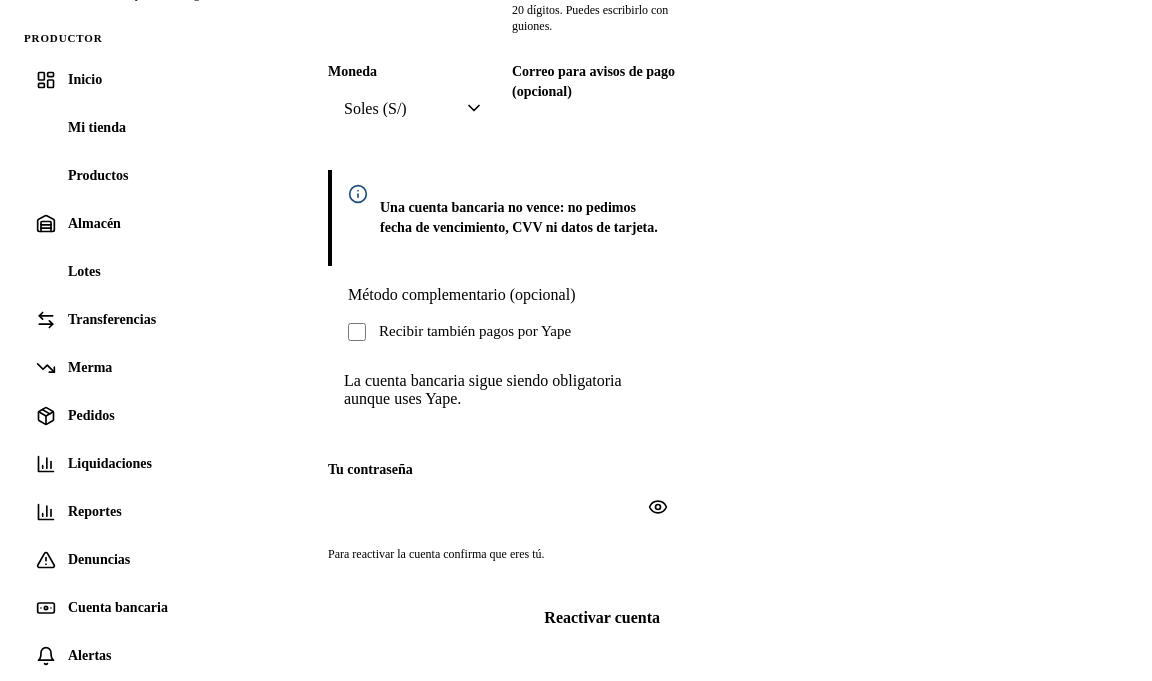
Test case: PW-20 Desactivar y reactivar la cuenta (CCPIP-275, CCPIP-276) › reactivar vuelve a enviar los datos con la contraseña
(page scrolled)
Expected: the button "Desactivar temporalmente" is not shown
Click the button "Reactivar cuenta". click: coordinates (602, 618)
box: [520,594,684,642]
(page scrolled)
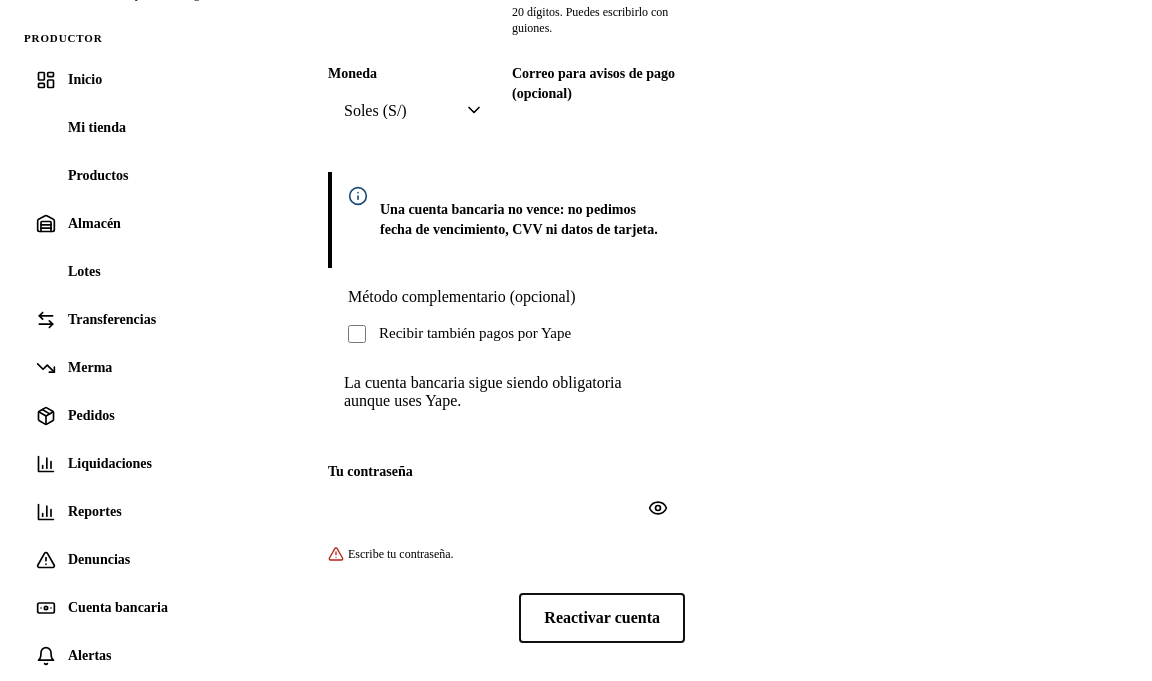
Type "Equivocada1" into the password field labelled "Tu contraseña". click: coordinates (539, 508)
box: [328,488,750,528]
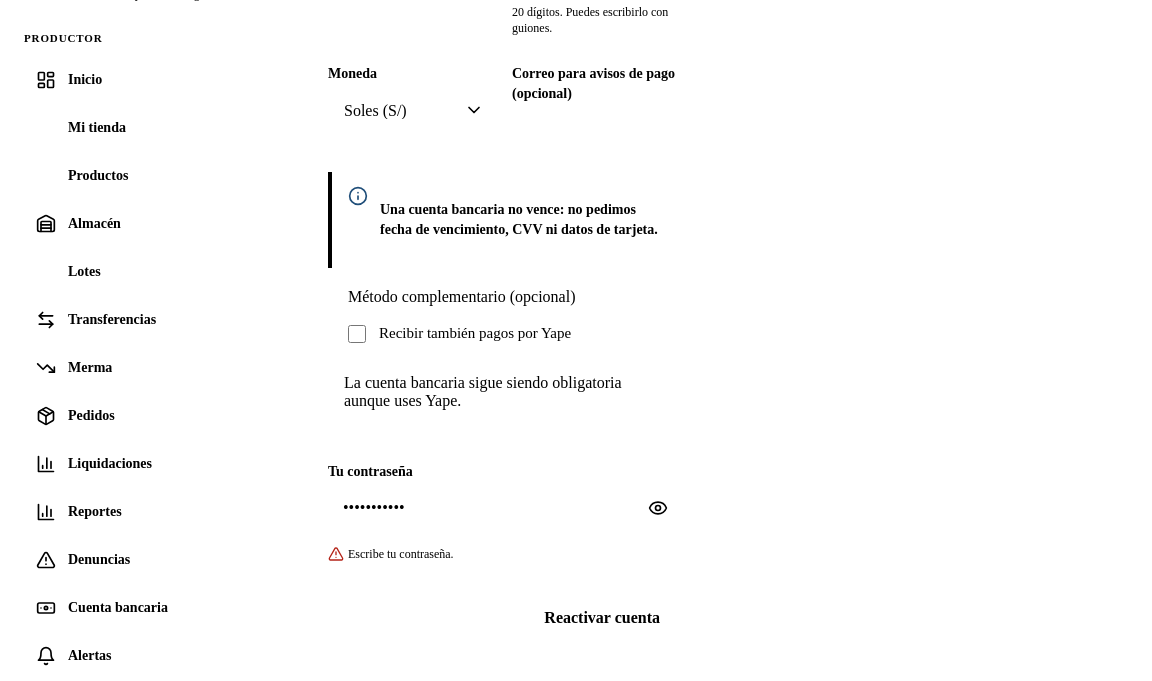
Click the button "Reactivar cuenta". click: coordinates (602, 618)
box: [520,594,684,642]
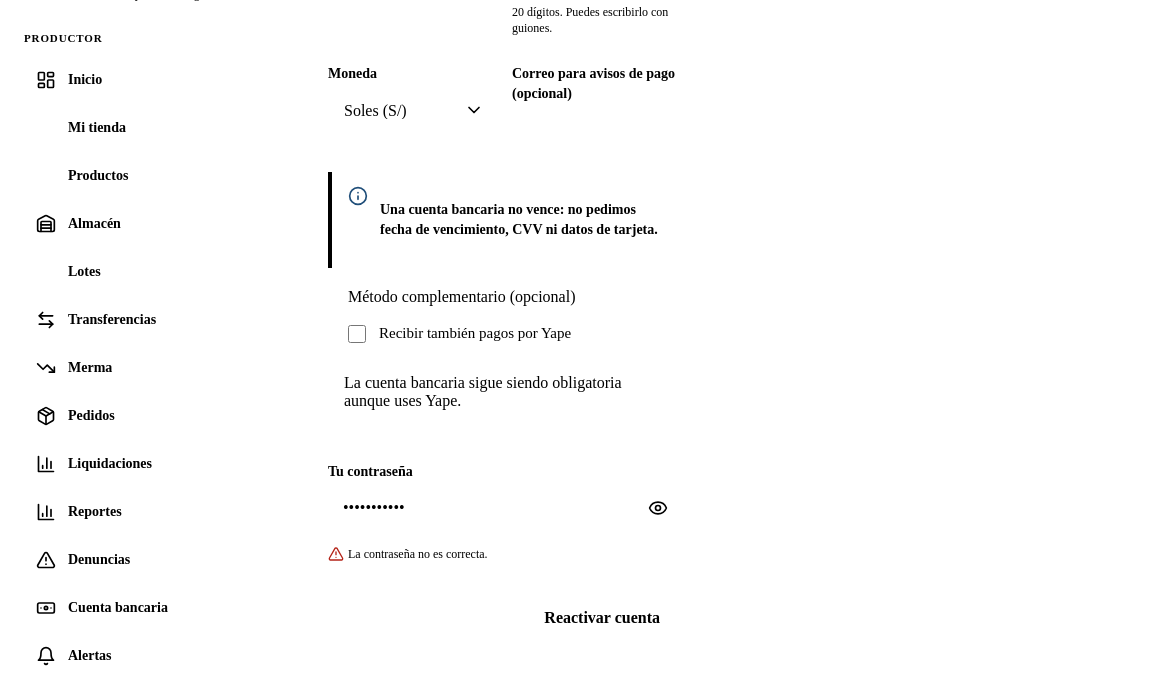
Type "Demo1234!" into the password field labelled "Tu contraseña". click: coordinates (539, 508)
box: [328,488,750,528]
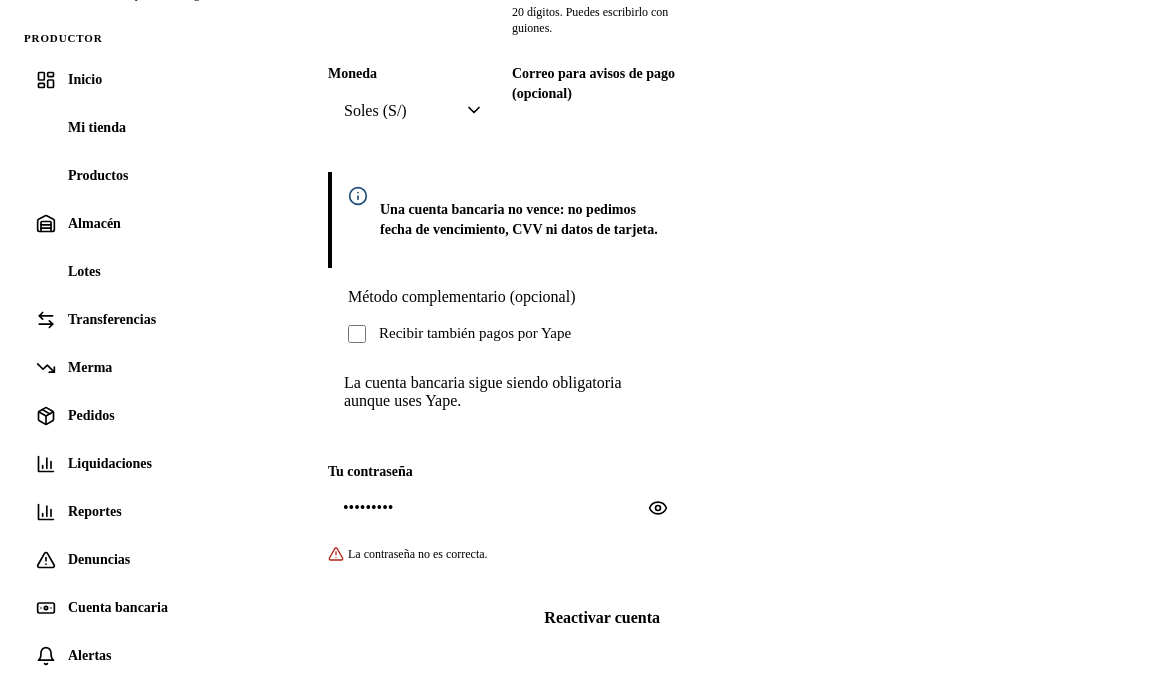
Click the button "Reactivar cuenta". click: coordinates (602, 618)
box: [520,594,684,642]
(page scrolled)
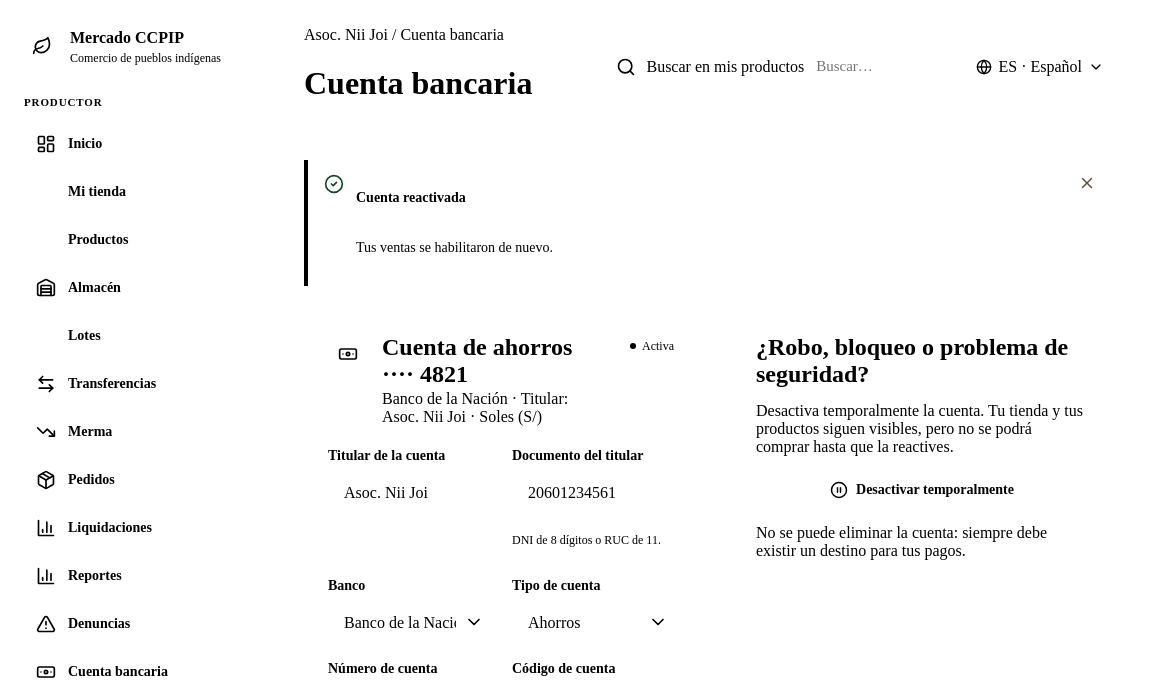
Expected: the text "Activa" is shown, [630,339,674,353]
Now the text "Cuenta reactivada" is shown, box [356,190,466,205]
